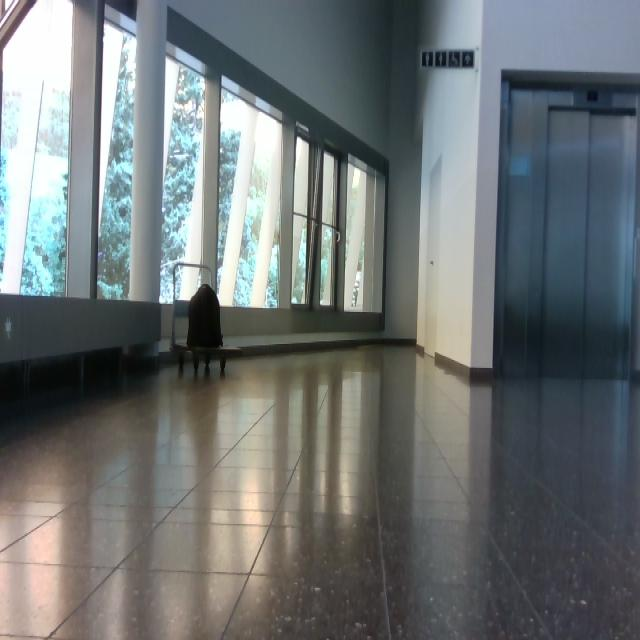door: (494, 76, 639, 381)
light bulb: (324, 228, 341, 244), (5, 317, 12, 333)
tiled floor: (2, 343, 639, 639)
window: (1, 1, 390, 329), (217, 76, 283, 309)
